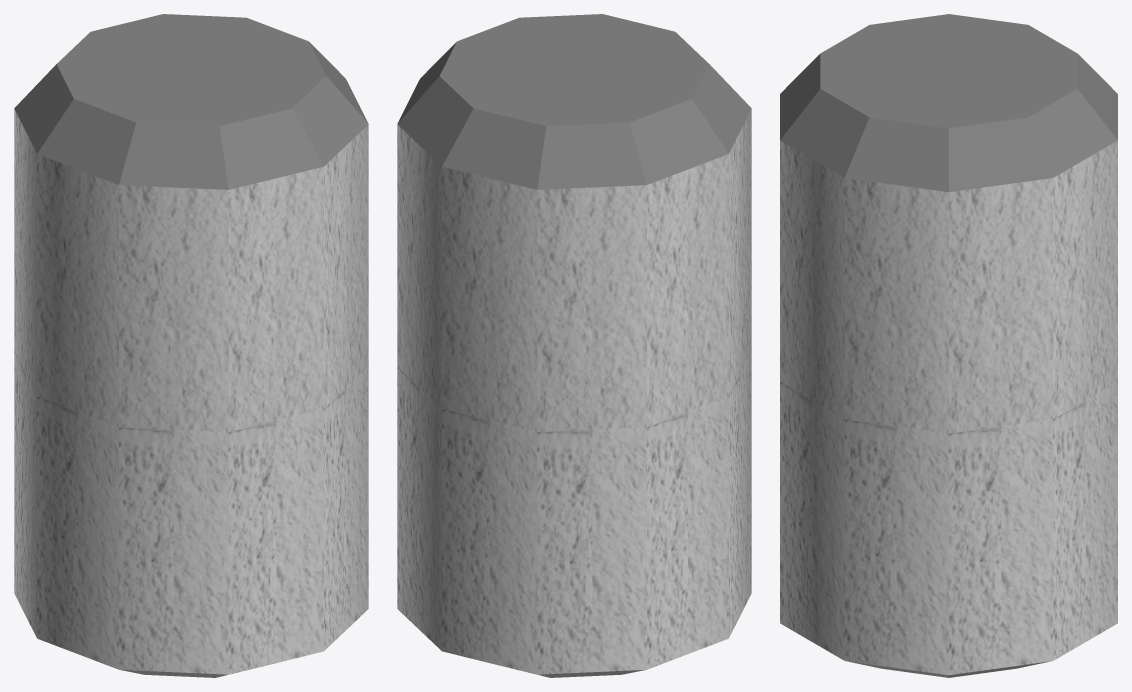
Rendered from can.obj.
3 views of the same model, side by side, from view 1: azimuth 30°, elevation 25°; view 2: azimuth 150°, elevation 25°; view 3: azimuth 270°, elevation 25° (orthographic).
Visible parts, largest first — view 1: can; view 2: can; view 3: can.
Part boxes in pixels (x1,y1,x2,y2): can: (14,14,368,677); can: (397,14,751,677); can: (780,14,1117,677).
Size of the model in its own units: 0.2 by 0.3468 by 0.1902.
2 materials, 1 textured.
